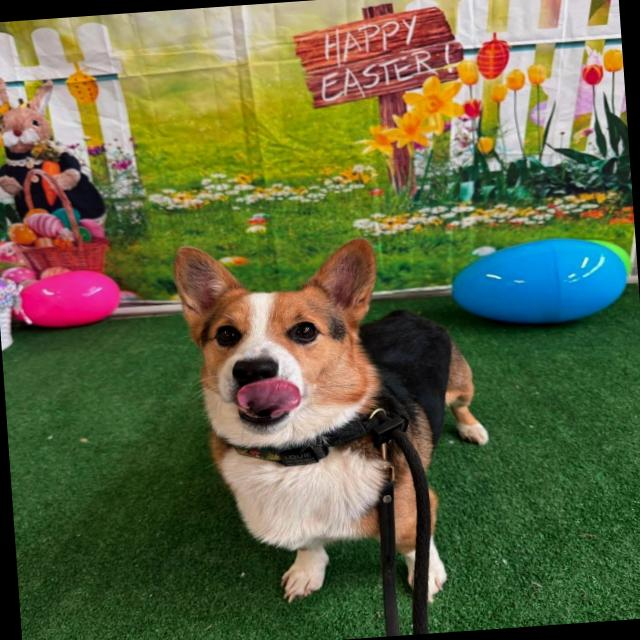corgi_dog: (158, 222, 396, 452)
